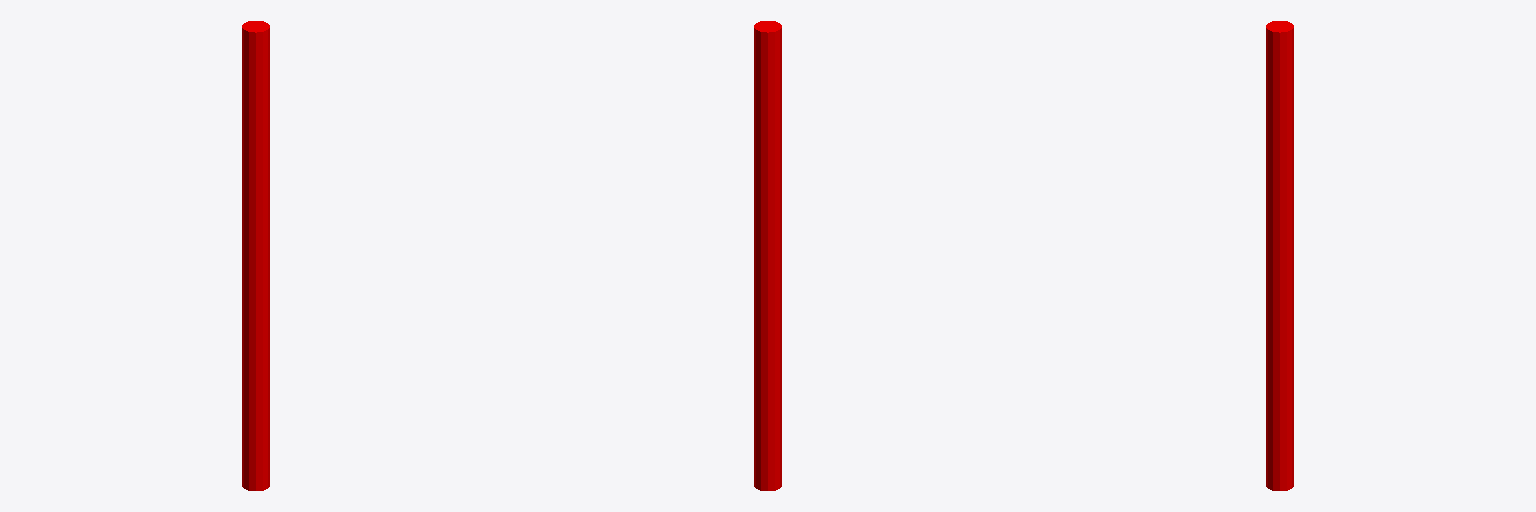
robot.urdf — slalom_red:
<?xml version="1.0" encoding="utf-8"?>
<!-- This URDF was automatically created by SolidWorks to URDF Exporter! Originally created by Stephen Brawner (brawner@gmail.com) 
     Commit Version: 1.6.0-4-g7f85cfe  Build Version: 1.6.7995.38578
     For more information, please see http://wiki.ros.org/sw_urdf_exporter -->
<robot
  name="slalom_red">
  <link
    name="base_link">
    <inertial>
      <origin
        xyz="-4.6434E-19 0.45 -4.9507E-19"
        rpy="0 0 0" />
      <mass
        value="1.8241" />
      <inertia
        ixx="0.12342"
        ixy="2.5172E-35"
        ixz="4.1934E-37"
        iyy="0.00058843"
        iyz="-1.0778E-35"
        izz="0.12342" />
    </inertial>
    <visual>
      <origin
        xyz="0 0 0"
        rpy="0 0 0" />
      <geometry>
        <mesh
          filename="package://slalom_red/meshes/base_link.STL" />
      </geometry>
      <material
        name="">
        <color
          rgba="1 0 0 1" />
      </material>
    </visual>
    <collision>
      <origin
        xyz="0 0 0"
        rpy="0 0 0" />
      <geometry>
        <mesh
          filename="package://slalom_red/meshes/base_link.STL" />
      </geometry>
    </collision>
  </link>
</robot>

--- Facts derived from the render (not from the file) ---
Views: 3 orthographic renders of the robot side by side, from view 1: azimuth 30°, elevation 25°; view 2: azimuth 150°, elevation 25°; view 3: azimuth 270°, elevation 25°.
Robot: slalom_red — 1 links, 0 joints (none); root link base_link; default pose: every joint at zero.
Links seen in each view (by area): view 1: base_link; view 2: base_link; view 3: base_link.
Boxes of the visible links, box(x1,y1,x2,y2) form: base_link: box(242, 21, 269, 490); base_link: box(754, 21, 781, 490); base_link: box(1266, 21, 1293, 490).
Size in the robot's own frame: 0.0508 by 0.0508 by 0.9 metres.
1 mesh visuals loaded from 1 distinct referenced files (1 binary STL).
